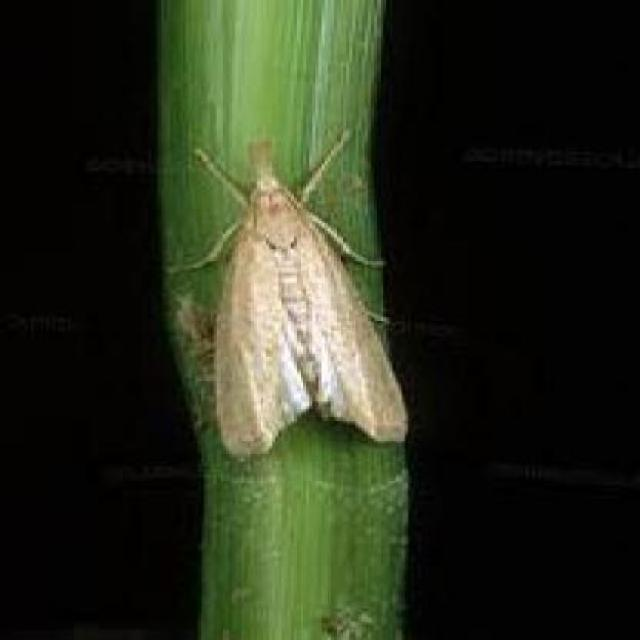stem-borer: (192, 136, 371, 462)
